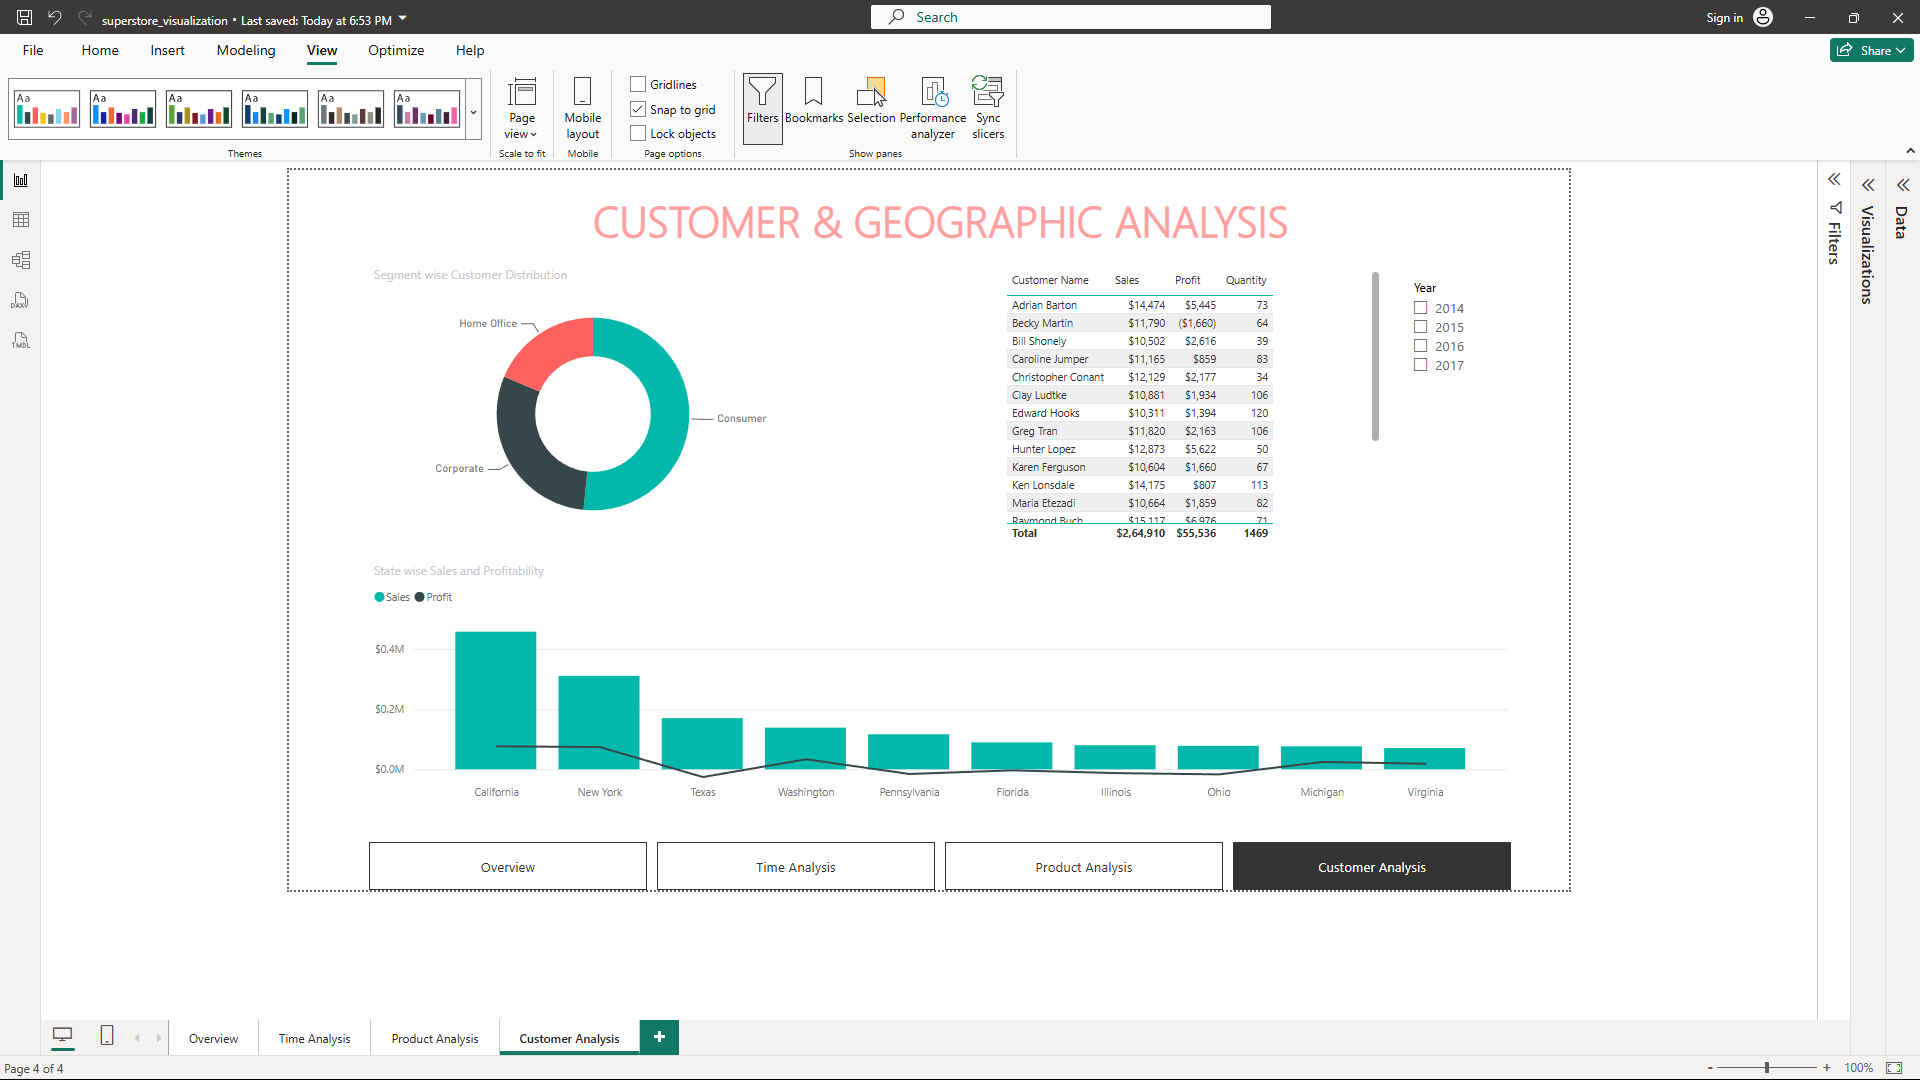

The dashboard page shown, as its layout file describes it:
{"tool":"powerbi","page":{"name":"Customer Analysis","canvas":[1280,720],"ordinal":3},"visuals":[{"type":"donutChart","title":"Segment wise Customer Distribution","fields":{"Category":["dim_customer.segment"],"Y":["Count(dim_customer.customer_id)"]},"box":[80,96,448,280],"z":0},{"type":"lineClusteredColumnComboChart","title":"State wise Sales and Profitability","fields":{"Category":["fact_sales.state"],"Y":["Sum(fact_sales.sales)"],"Y2":["Sum(fact_sales.profit)"]},"box":[80,392,1144,248],"z":1000},{"type":"tableEx","fields":{"Values":["dim_customer.customer_name","Sum(fact_sales.sales)","Sum(fact_sales.profit)","Sum(fact_sales.quantity)"]},"box":[712,96,384,280],"z":2000},{"type":"slicer","fields":{"Values":["dim_date.Year"]},"box":[1112,104,112,120],"z":3000},{"type":"textbox","box":[80,16,1144,72],"z":4000},{"type":"pageNavigator","box":[80,672,1144,48],"z":4001}]}

Visuals, with their boxes on the page's 1280x720 design canvas (x1, y1, x2, y2). These are canvas units, not pixel positions in the 1920x1080 screenshot, which may show the page scaled, cropped or inside an application window:
"Segment wise Customer Distribution" donutChart: Rect(80, 96, 528, 376)
"State wise Sales and Profitability" lineClusteredColumnComboChart: Rect(80, 392, 1224, 640)
tableEx - dim_customer.customer_name x Sum(fact_sales.sales): Rect(712, 96, 1096, 376)
slicer - dim_date.Year: Rect(1112, 104, 1224, 224)
textbox: Rect(80, 16, 1224, 88)
pageNavigator: Rect(80, 672, 1224, 720)
